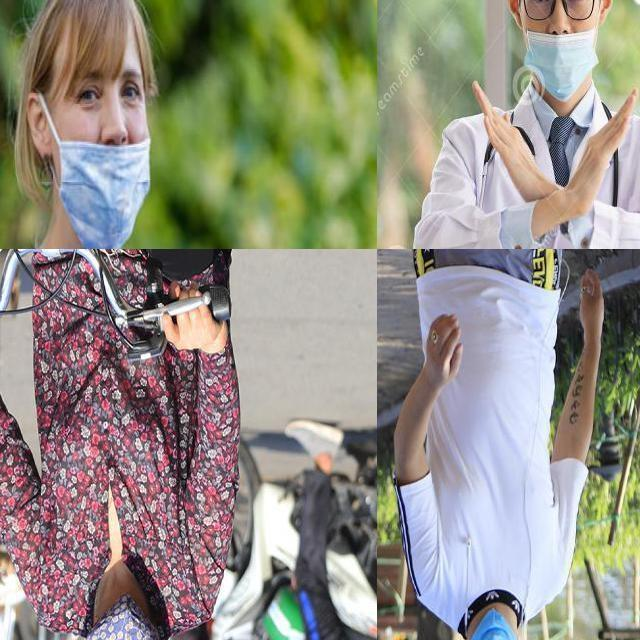hairnet: (51, 102, 154, 235), (525, 11, 596, 97)
